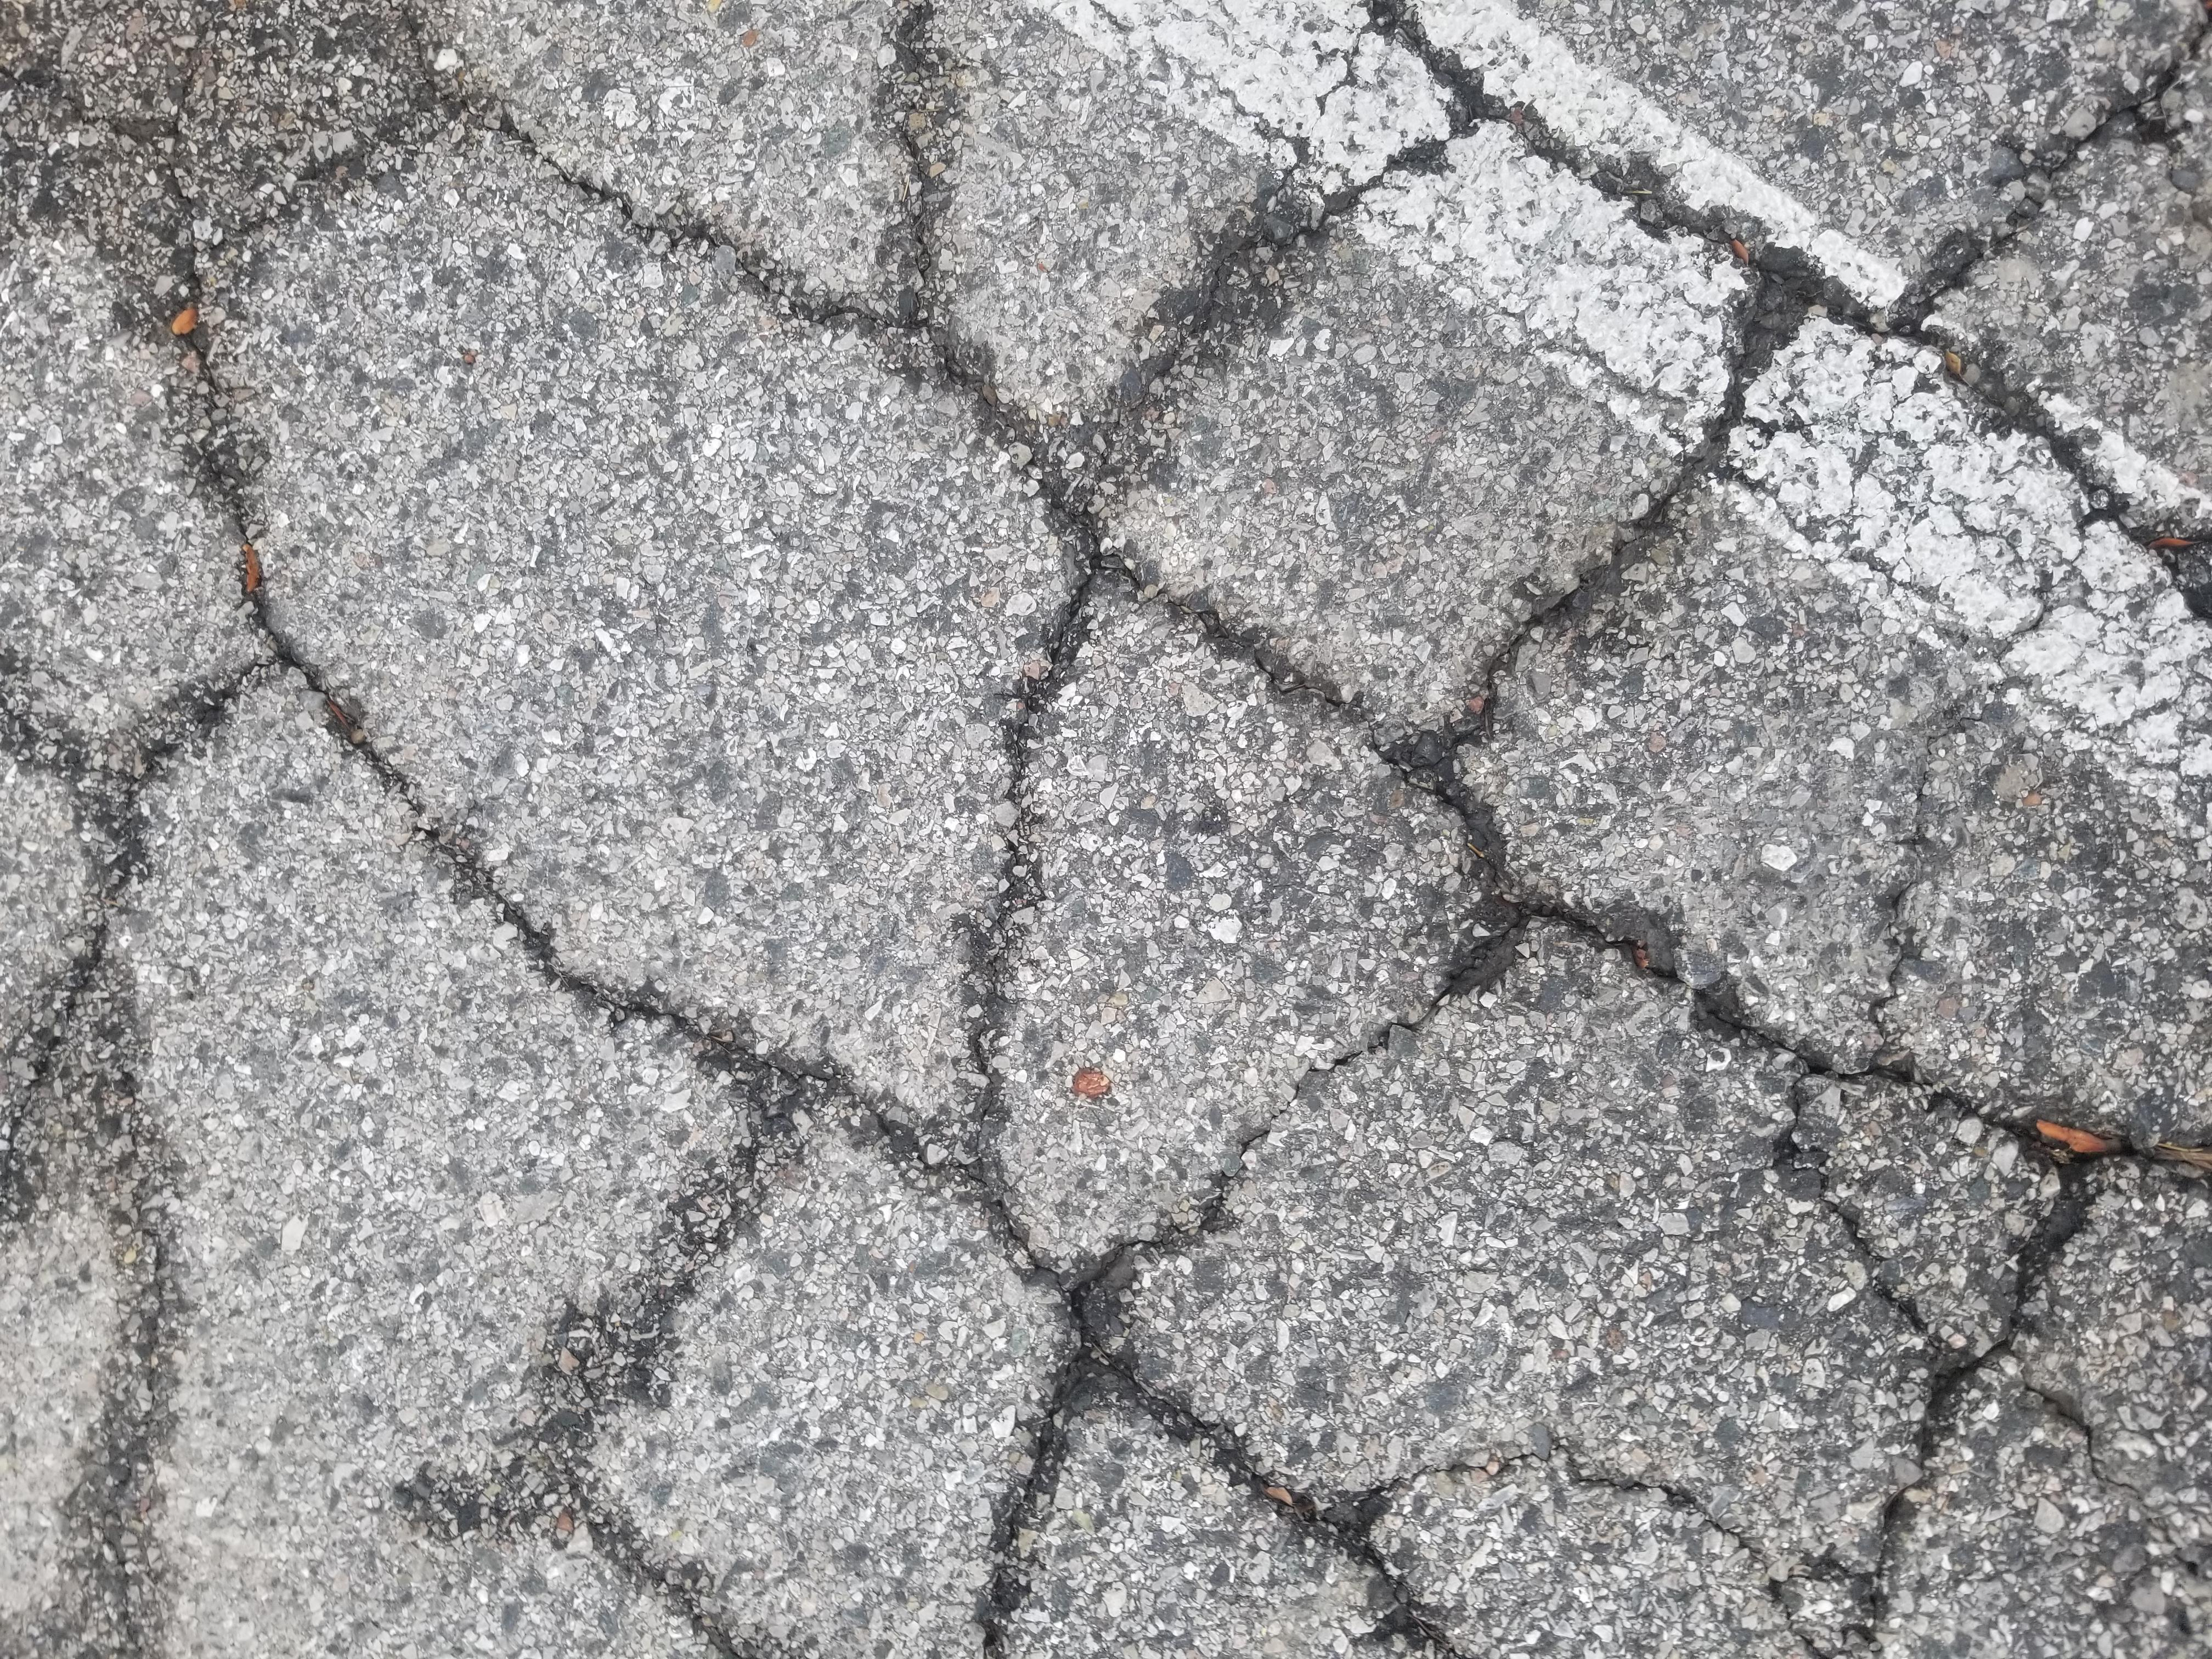alligator-crack: (45, 51, 2203, 1612)
